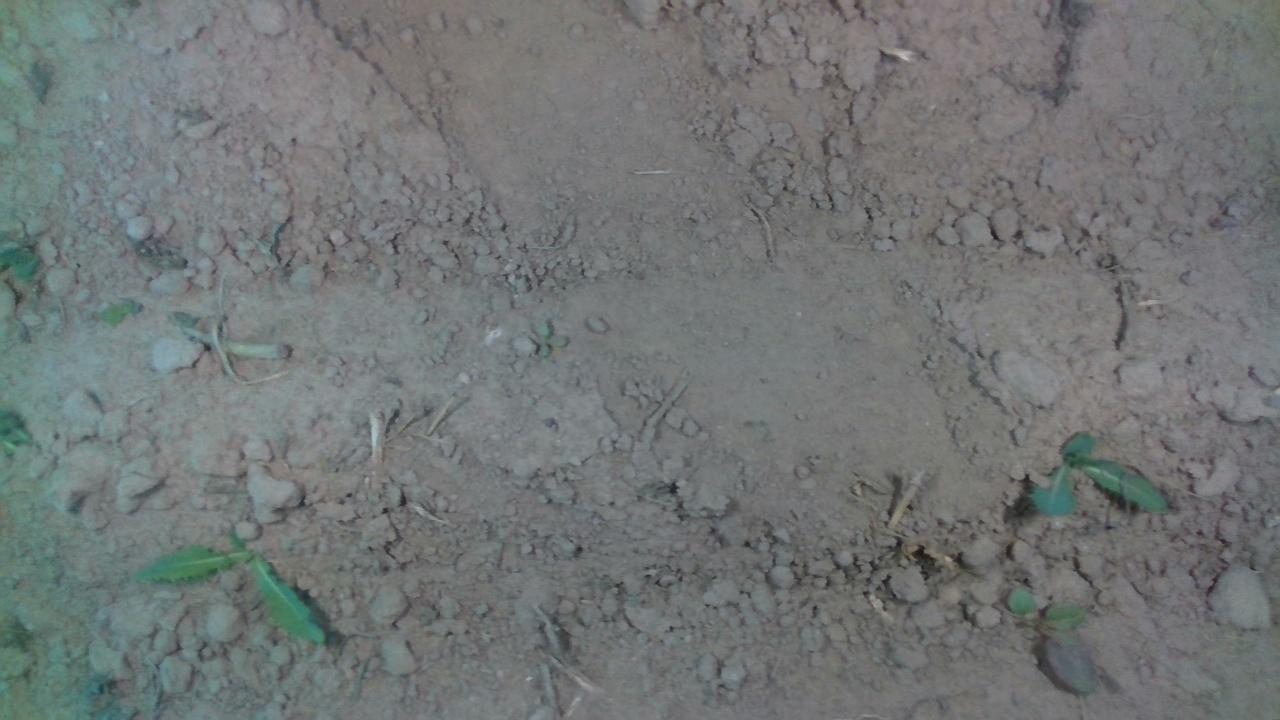weed: (135, 528, 325, 644), (1026, 428, 1166, 517), (1004, 584, 1099, 695)
